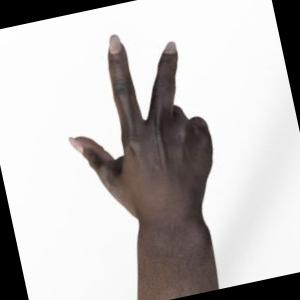scissors: (69, 35, 218, 300)
